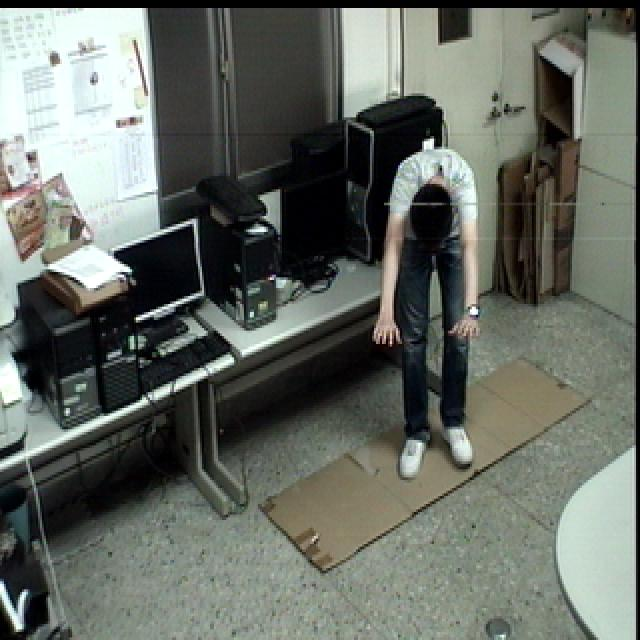bend: (367, 138, 499, 486)
